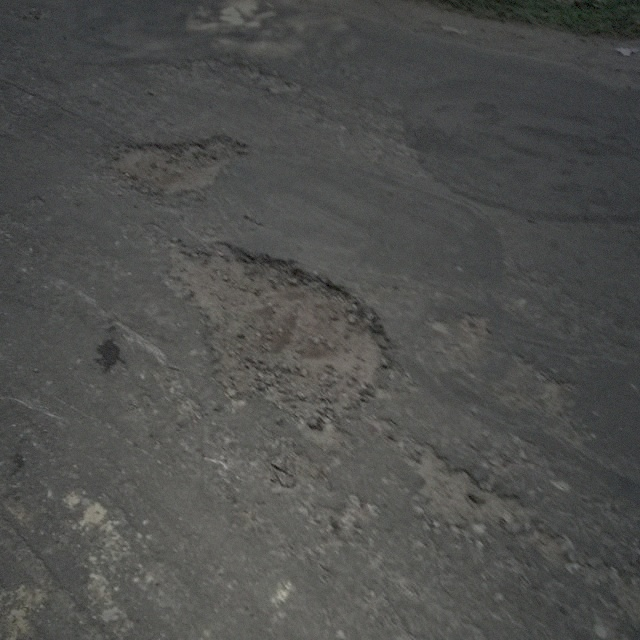pothole: (161, 236, 387, 427), (103, 130, 245, 194)
